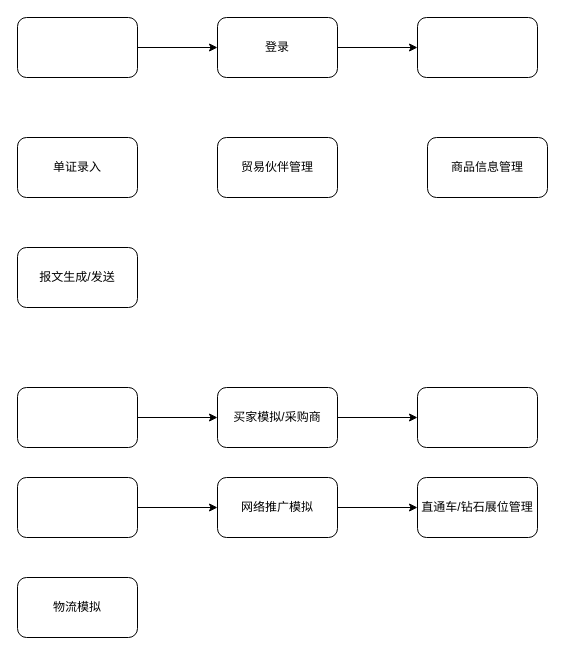
Image size: 565x655. Some labels were removed from this diagram. Each missing label, with the box of its shape:
个人信息管理: (416, 16, 538, 78)
微店: (16, 476, 138, 538)
注册: (16, 16, 138, 78)
网店注册/管理: (16, 386, 138, 448)
银行模拟: (416, 386, 538, 448)
